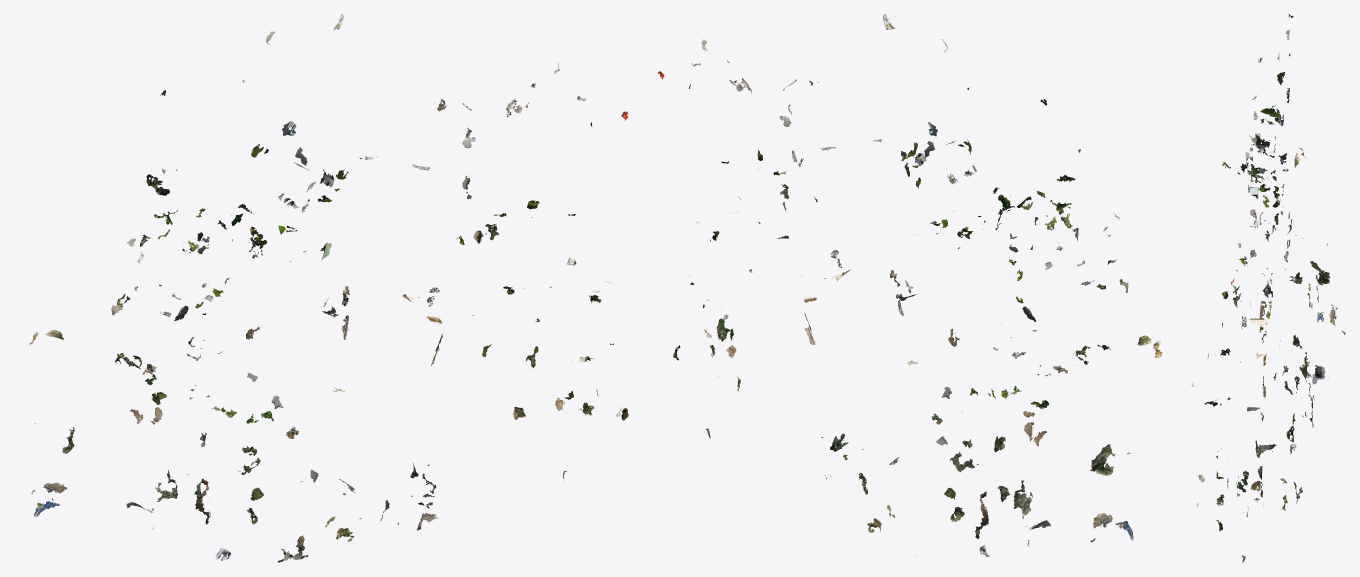
The model's file is tile_6.glb.
3 renders of one model, left to right at view 1: azimuth 30°, elevation 25°; view 2: azimuth 150°, elevation 25°; view 3: azimuth 270°, elevation 25°, orthographic. The views are drawn at different scales.
Bounding box in the file's own units: 171 × 159 × 47.92.
Materials: 1 (1 with a texture image).
